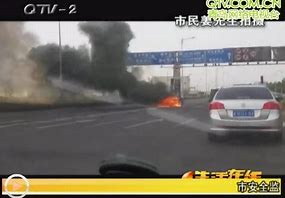smoke: (41, 21, 161, 102)
